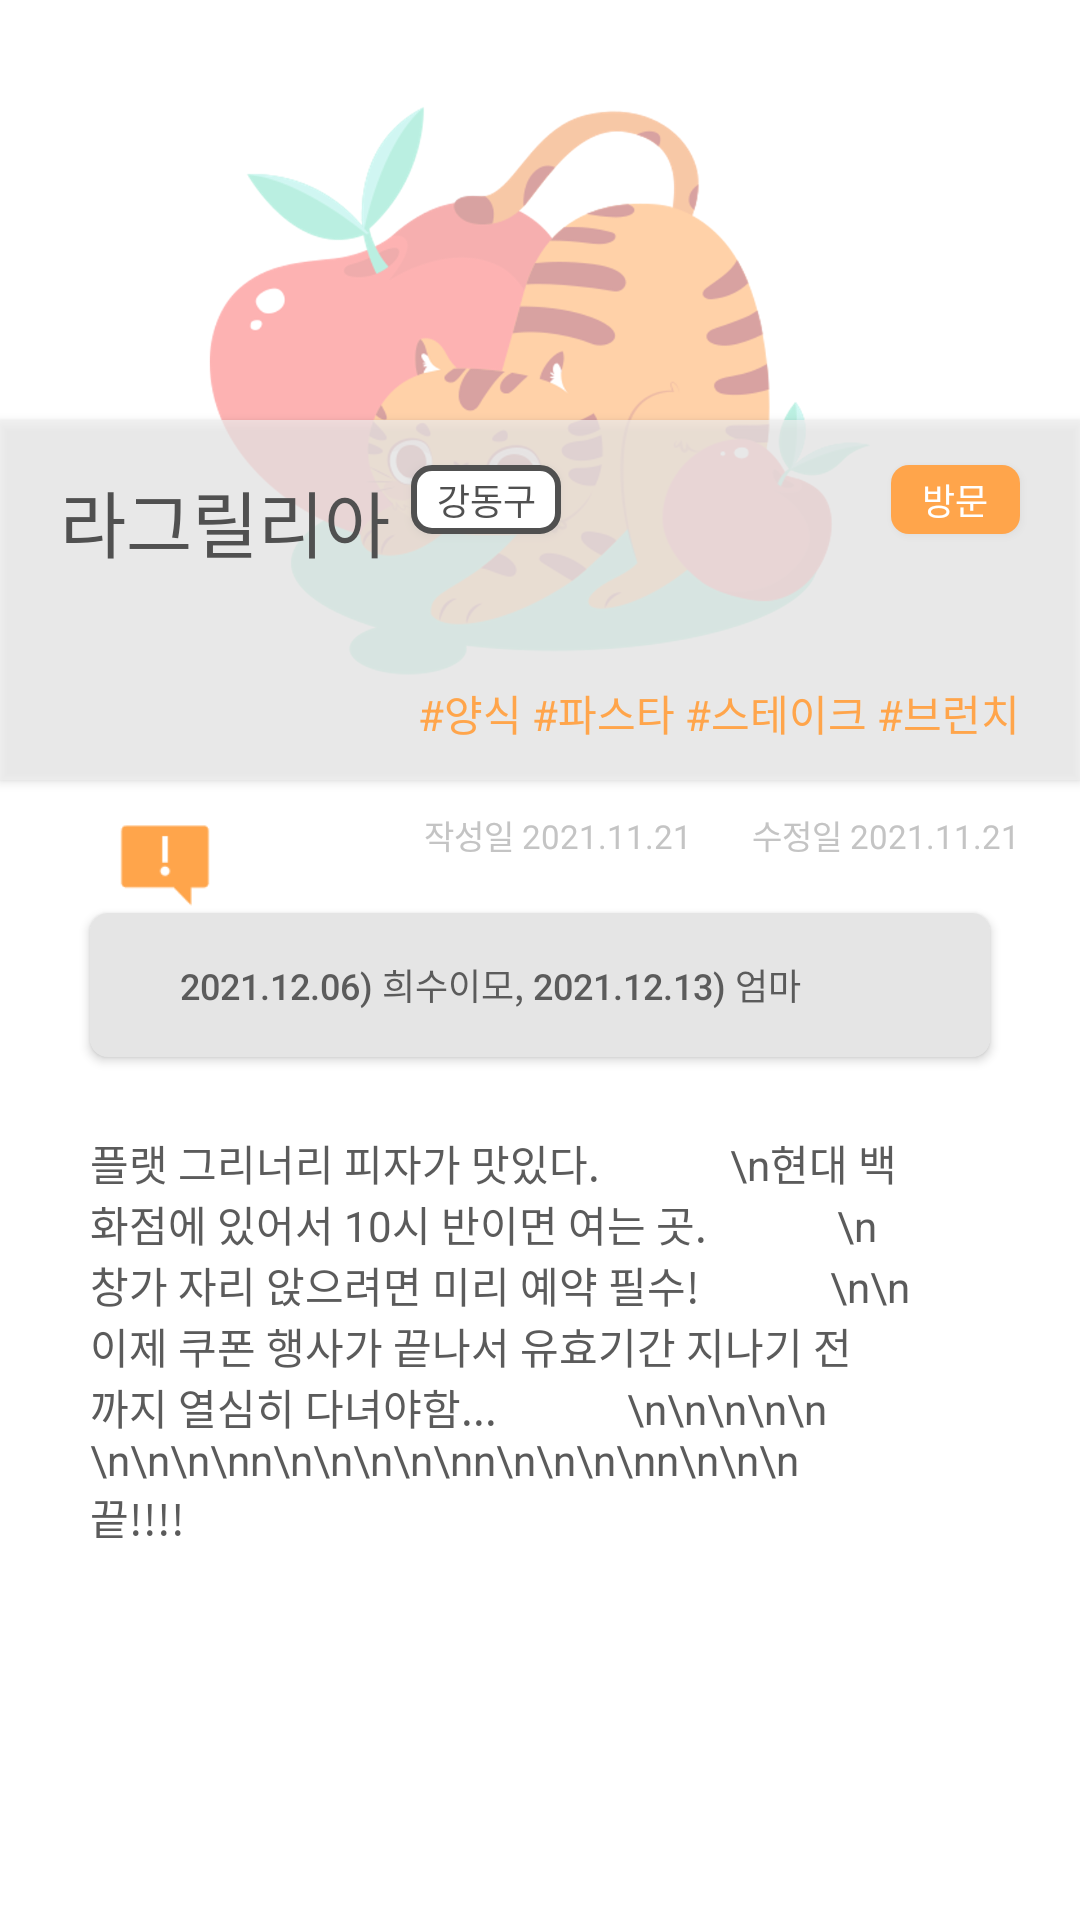

Icon click points for this 1080px x 1920px phone screenshot, format (x,y):
notice: (165,865)
